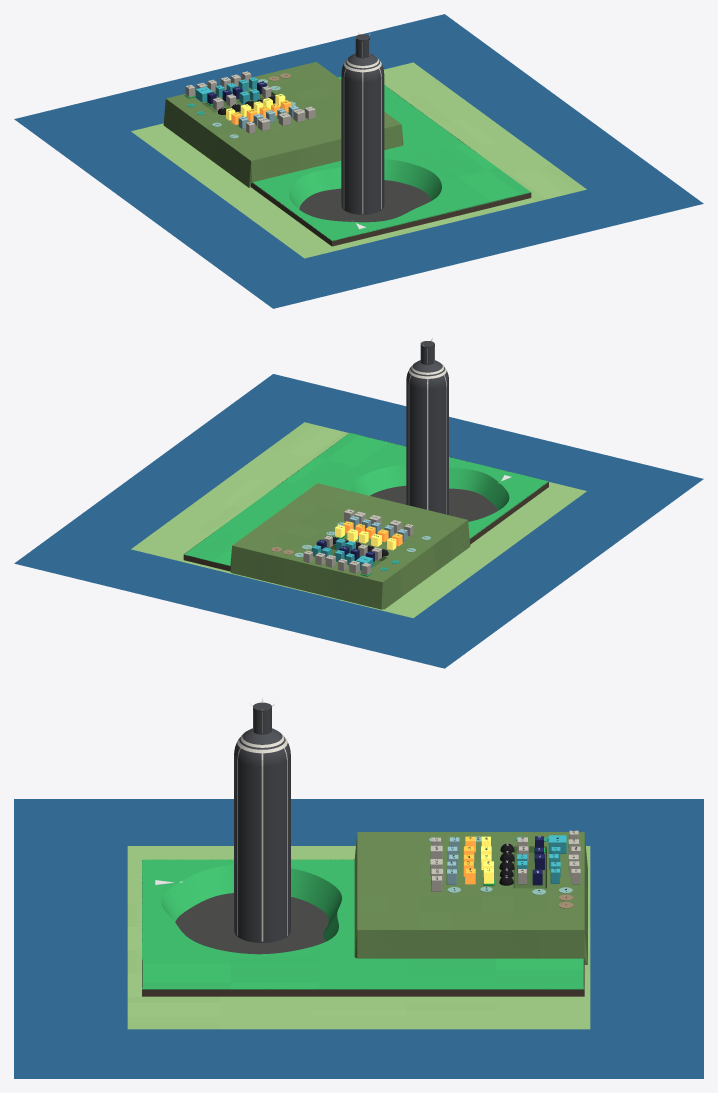
File: tots-model.glb
The picture shows the model from 3 angles, top to bottom: view 1: azimuth 30°, elevation 25°; view 2: azimuth 150°, elevation 25°; view 3: azimuth 270°, elevation 25°; orthographic projection. The views are drawn at different scales.
Visible parts, largest first — view 1: 海, 無實體_東側, 導師之間_柱身, 無實體_西側, 平原_東側帶, 高原面_南, 導師之間_塔底盆地, 平原_南側塊, 高原轉無實體_西坡, 高原轉平原_南坡, 平原岩壁_南, 高原面_北 (+5 smaller); view 2: 海, 無實體_東側, 高原面_南, 平原_東側帶, 無實體_西側, 導師之間_柱身, 高原轉無實體_北坡, 導師之間_塔底盆地, 平原_南側塊, 高原轉無實體_西坡, 高原面_北, 導師之間_肩部收頸 (+3 smaller); view 3: 海, 無實體_東側, 平原_東側帶, 高原面_南, 導師之間_柱身, 導師之間_塔底盆地, 平原_南側塊, 高原轉平原_東坡, 平原岩壁_東, 無實體_西側, 高原面_北, 無實體_南側 (+4 smaller).
Part boxes in pixels (x1,y1,x2,y2): 海: (14,14,703,308); 無實體_東側: (384,62,586,201); 導師之間_柱身: (341,74,384,214); 無實體_西側: (131,123,357,258); 平原_東側帶: (338,76,530,204); 高原面_南: (193,82,401,160); 導師之間_塔底盆地: (289,159,441,222); 平原_南側塊: (252,145,482,241); 高原轉無實體_西坡: (163,99,250,187); 高原轉平原_南坡: (251,124,402,182); 平原岩壁_南: (331,193,531,246); 高原面_北: (166,62,329,108); 海: (14,374,703,668); 無實體_東側: (131,422,348,561); 高原面_南: (259,483,467,562); 平原_東側帶: (184,433,397,565); 無實體_西側: (360,482,586,618); 導師之間_柱身: (406,381,448,514); 高原轉無實體_北坡: (231,545,382,609); 導師之間_塔底盆地: (351,465,509,521); 平原_南側塊: (339,444,548,538); 高原轉無實體_西坡: (382,520,470,608); 高原面_北: (232,535,396,582); 導師之間_肩部收頸: (406,360,448,389); 海: (14,799,703,1078); 無實體_東側: (127,996,590,1029); 平原_東側帶: (142,957,584,989); 高原面_南: (357,832,513,929); 導師之間_柱身: (234,755,290,942); 導師之間_塔底盆地: (161,865,341,954); 平原_南側塊: (142,859,354,957); 高原轉平原_東坡: (357,930,584,958); 平原岩壁_東: (142,989,584,996); 無實體_西側: (127,846,590,880); 高原面_北: (547,832,584,929); 無實體_南側: (127,880,141,996).
Bounding box in the file's own units: 1745 × 664 × 1819.
